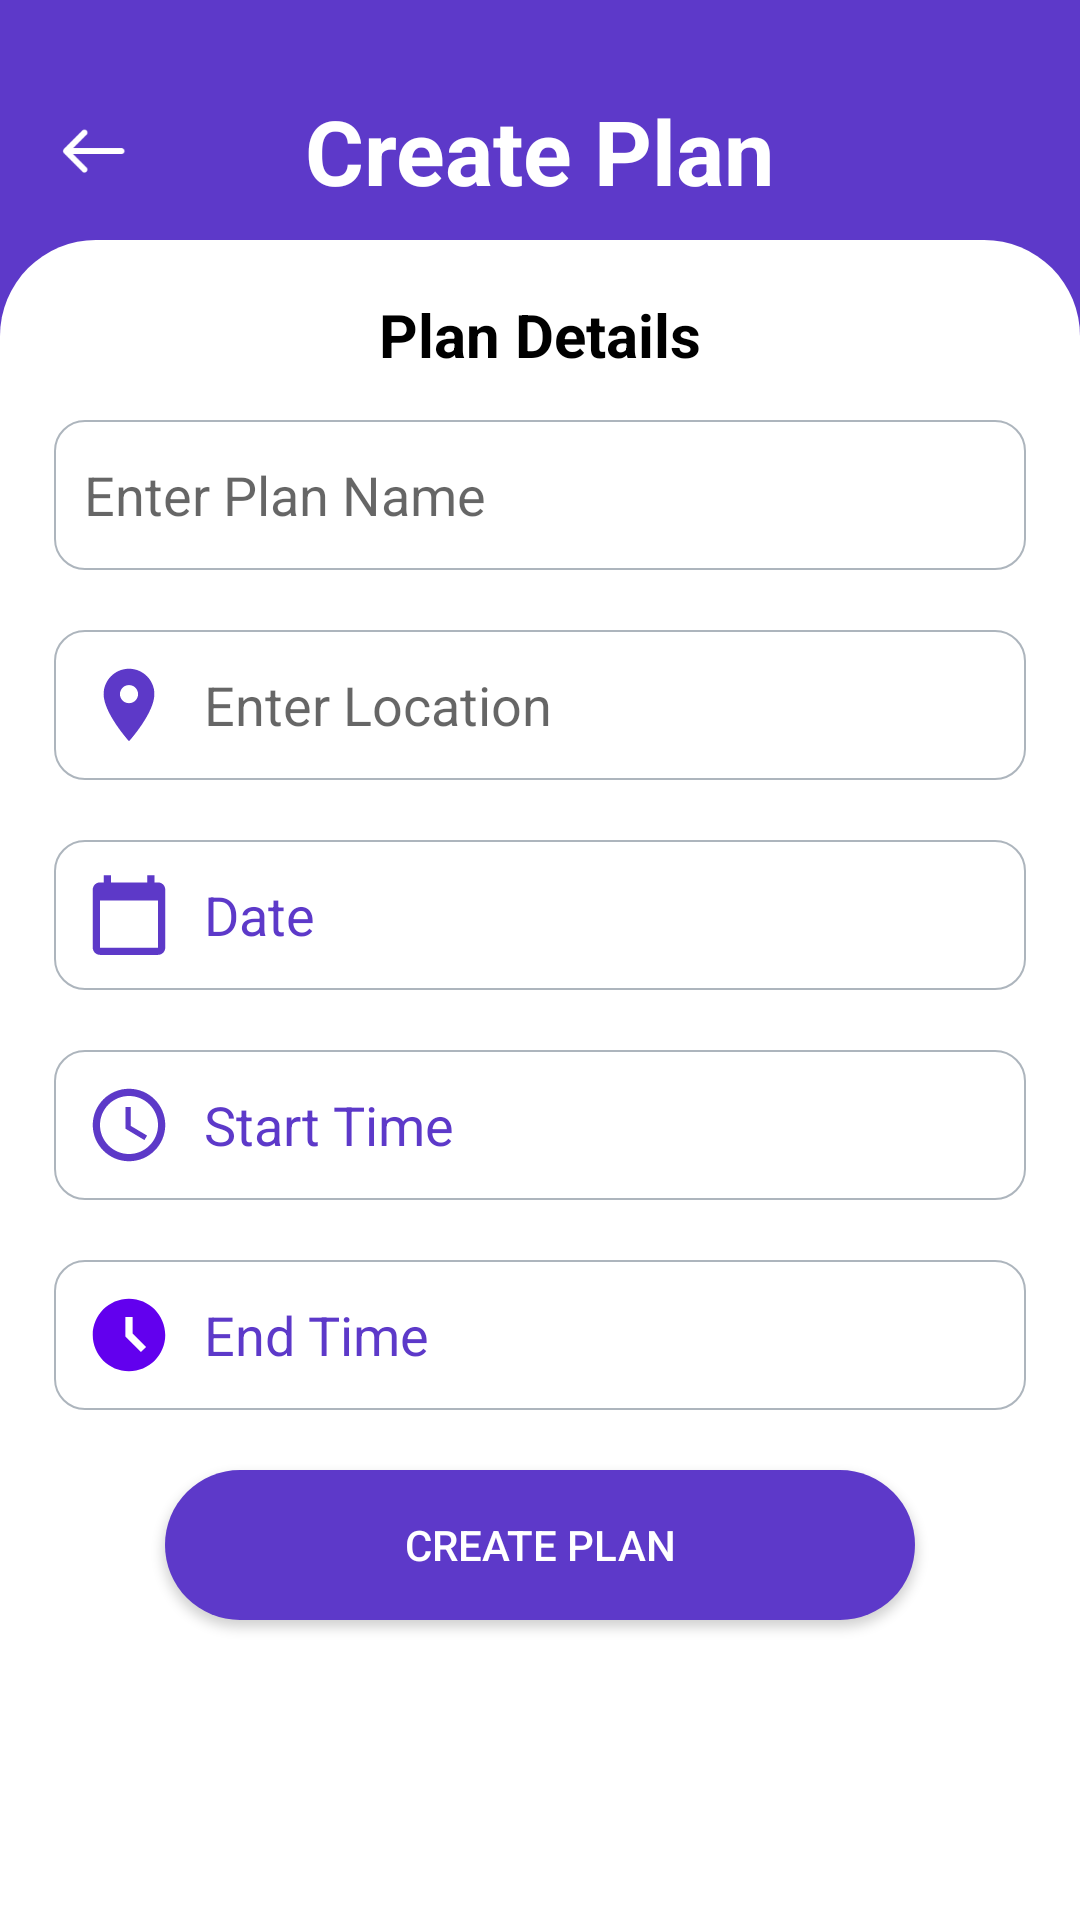

Icons on this 1080px×1920px Android screen, each with the point to tap as [x,y]:
back arrow: [94,151]
